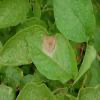Potato leaf late blight: (26, 30, 80, 84)
